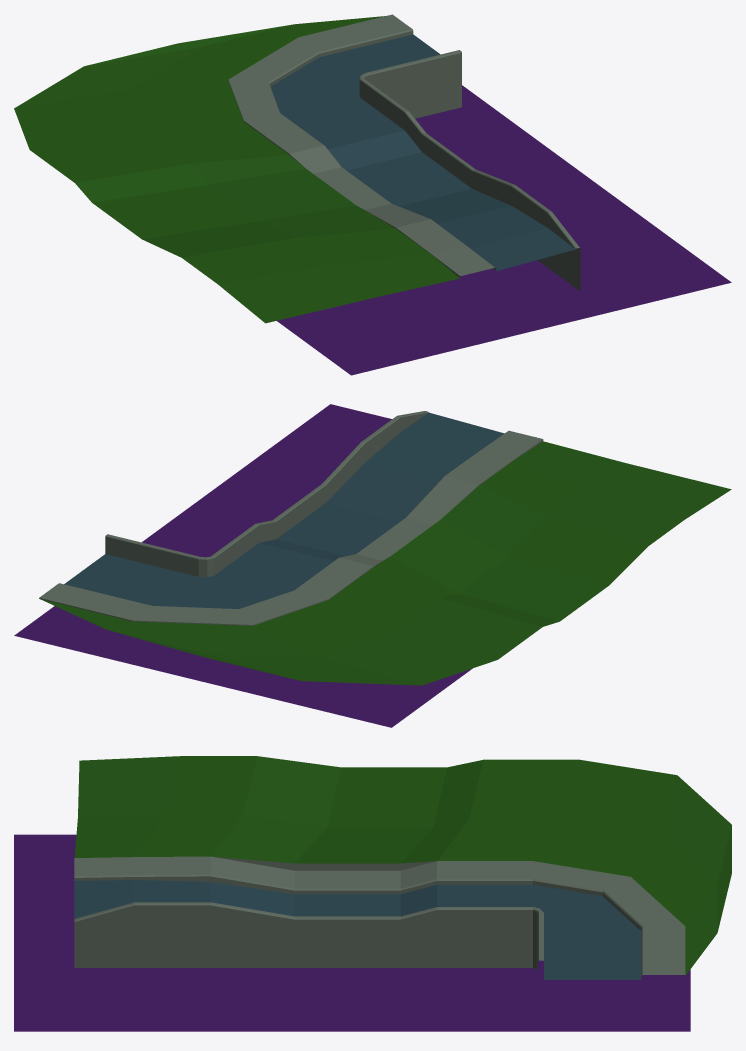
The model's file is port.glb.
The picture shows the model from 3 angles, top to bottom: view 1: azimuth 30°, elevation 25°; view 2: azimuth 150°, elevation 25°; view 3: azimuth 270°, elevation 25°; orthographic projection. The views are drawn at different scales.
Visible parts, largest first — view 1: scenario, sea; view 2: scenario, sea; view 3: scenario, sea.
Boxes of the visible parts, left/top/right/bottom form: scenario: left=14, top=14, right=580, bottom=323; sea: left=277, top=85, right=731, bottom=375; scenario: left=39, top=411, right=731, bottom=685; sea: left=14, top=404, right=472, bottom=727; scenario: left=74, top=756, right=731, bottom=979; sea: left=14, top=834, right=690, bottom=1031.
Size of what is drawn, in the model's own units: 26.04 by 4.86 by 35.05.
